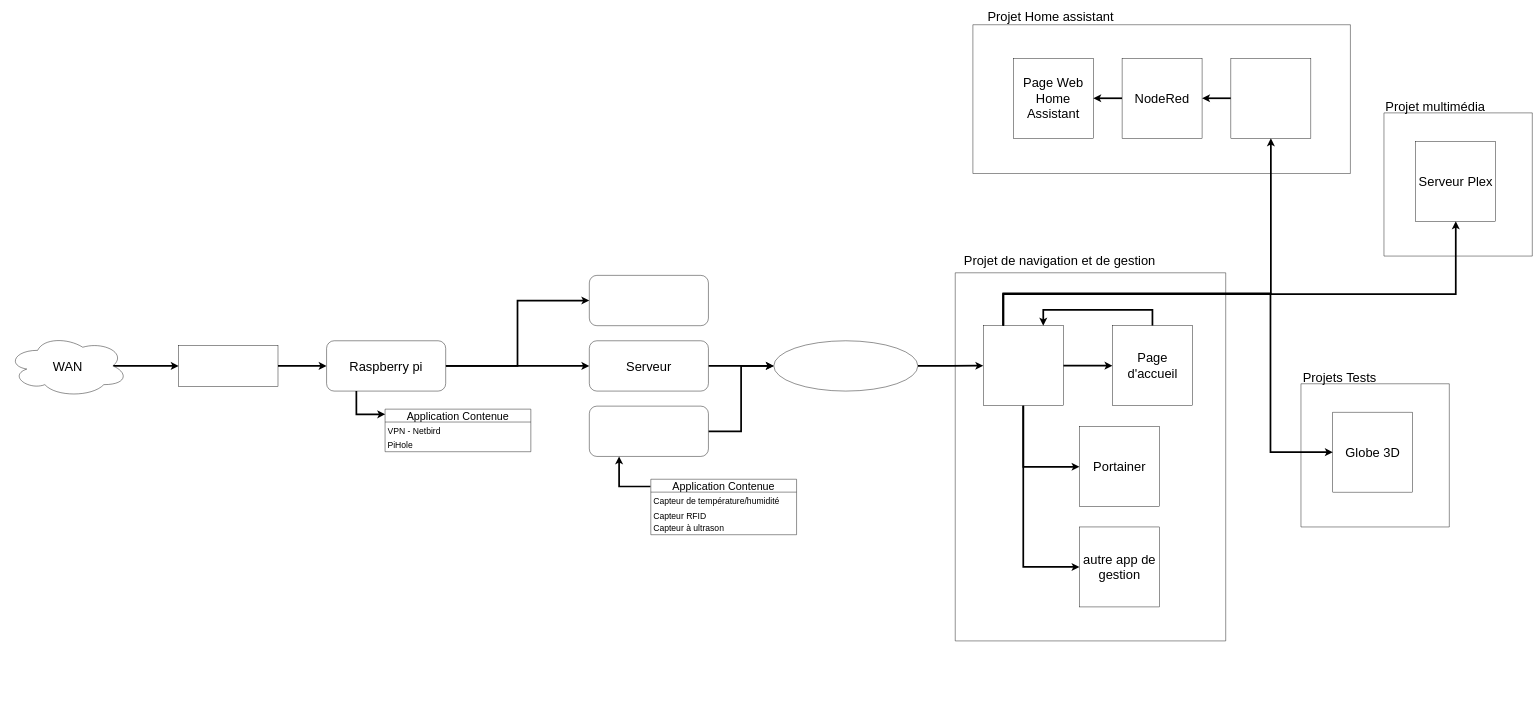
This 1540x720 diagram has some shape labels left out. Here are the shapes that lost their labels. From the top down, the centre of each, then its label:
At point (1270, 98): "MQTT".
At point (648, 300): "Autres appareils".
At point (228, 365): "Routeur".
At point (845, 365): "Docker".
At point (1023, 365): "Nginx".
At point (648, 431): "ESP32 entrée".
